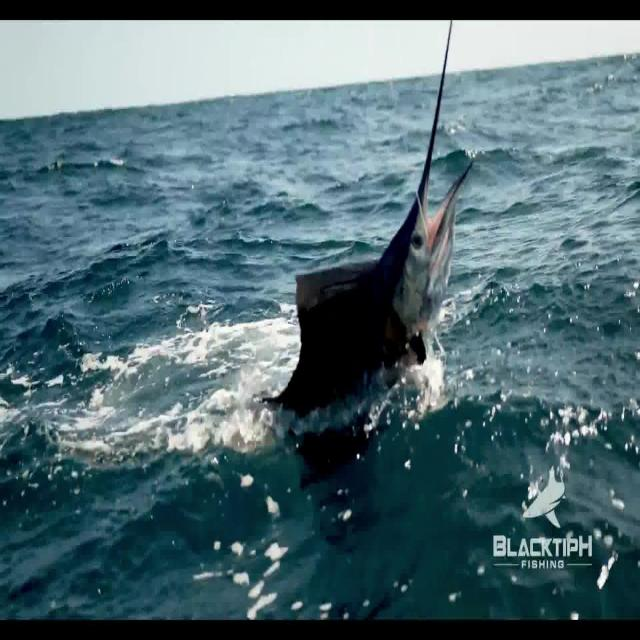Sail Fish: (260, 21, 473, 426)
